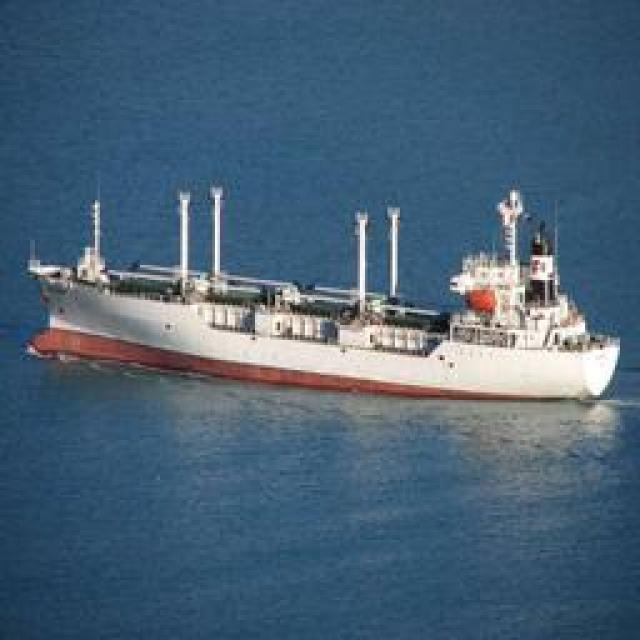ship2: (27, 187, 623, 408)
